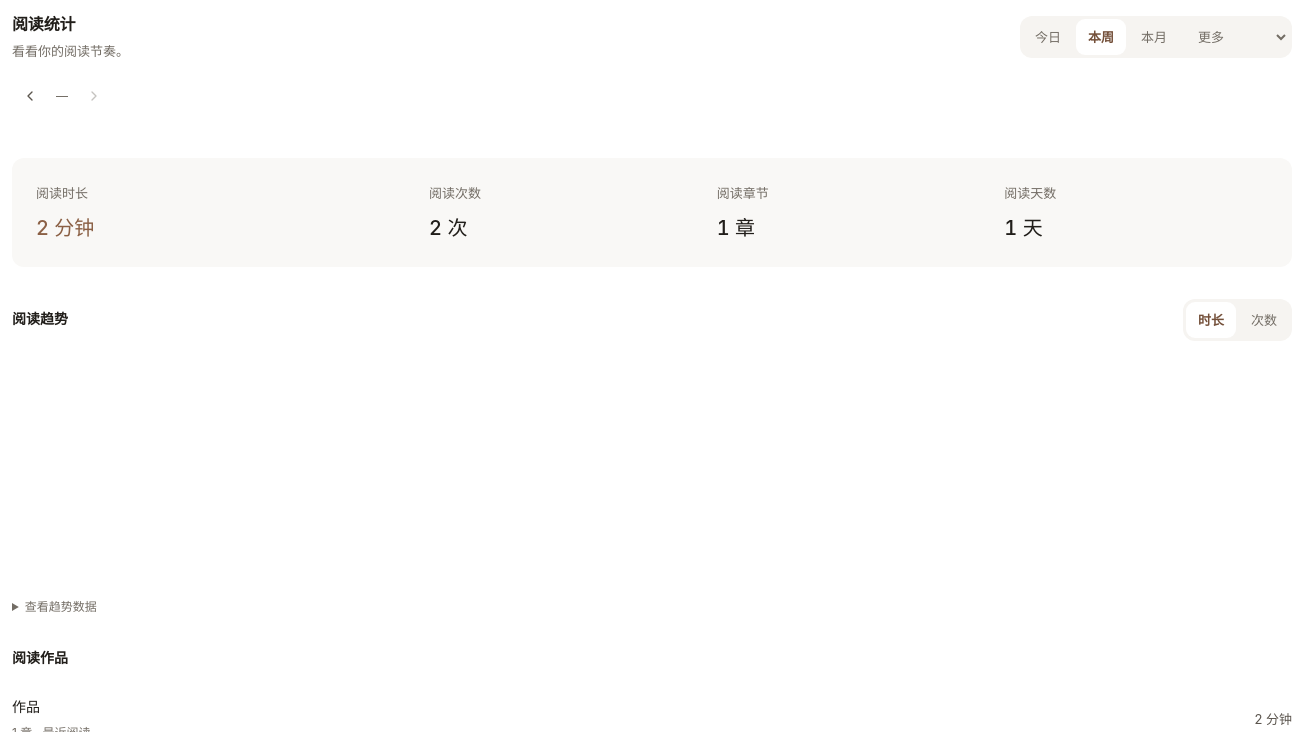
Test: ignores older responses when periods change quickly
Expected: the link "作品" is shown, [12, 698, 40, 715]
What coordinates should you click on to do the following:
click the button "今日"
I would click on:
 (1048, 37)
Its box is [1023, 19, 1073, 55].
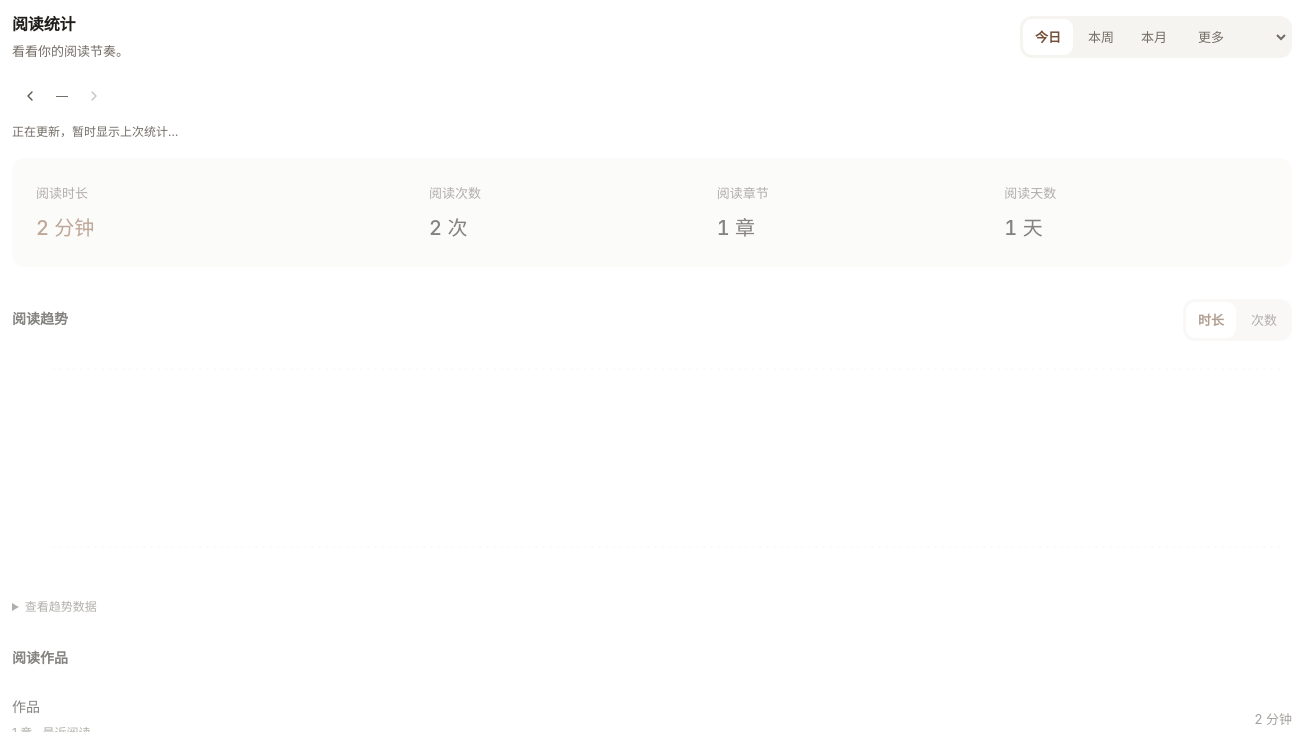
What coordinates should you click on to do the following:
click the button "本月"
I would click on:
 (1154, 37)
Its box is [1129, 19, 1179, 55].
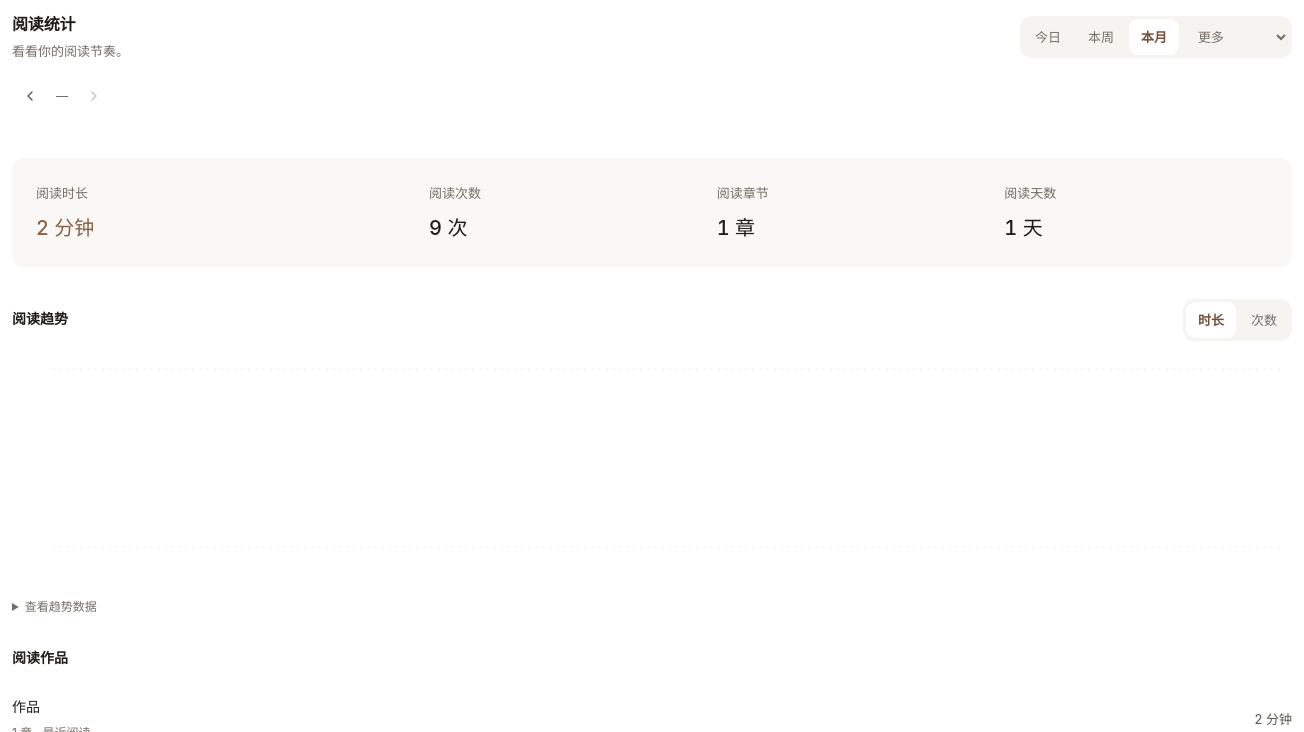
Expected: the text "9 次" is shown, [429, 216, 467, 240]
